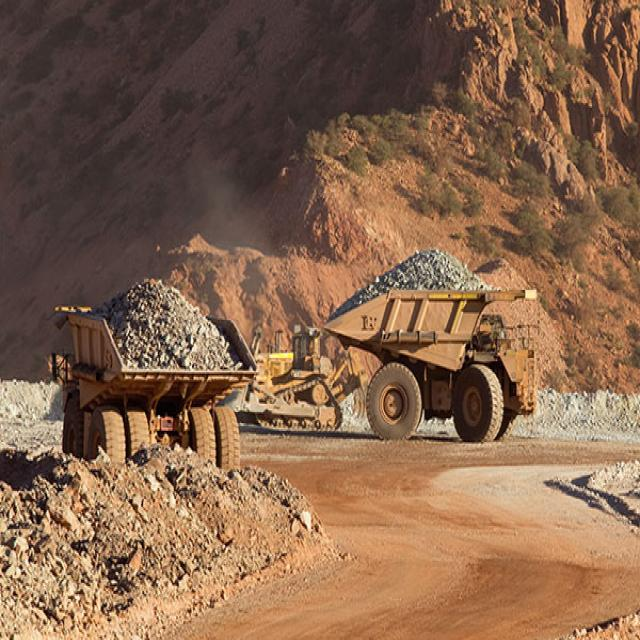buldozerpayloadergrader: (239, 309, 370, 443)
dump_truck: (320, 242, 544, 458), (52, 276, 267, 499)
